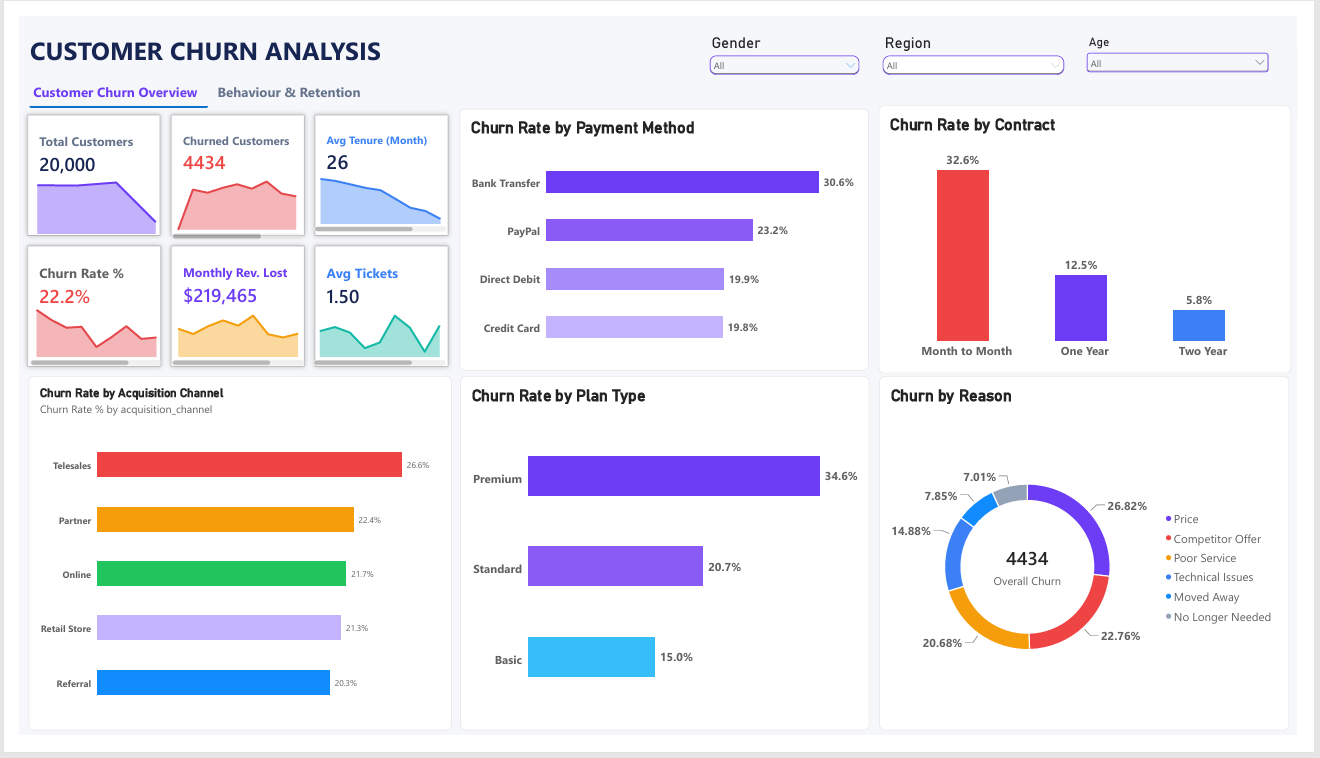

The dashboard page shown, as its layout file describes it:
{"tool":"powerbi","page":{"name":"Customer Churn  Overview","canvas":[1920,1080],"ordinal":0},"visuals":[{"type":"shape","box":[434.9,138.6,216.6,197.8],"z":0,"group":"g5"},{"type":"shape","box":[219.4,139,216.6,197.8],"z":0,"group":"g3"},{"type":"group","id":"g1","title":"Group 2","box":[434.9,335.7,217.6,197.2],"z":0},{"type":"shape","box":[434.9,335.7,216.6,197.8],"z":0,"group":"g1"},{"type":"shape","box":[2.9,336.2,216.6,197.8],"z":0,"group":"g2"},{"type":"shape","box":[219.4,336.2,216.6,197.8],"z":0,"group":"g4"},{"type":"slicer","title":"AGE","fields":{"Values":["churn_db churn_analysis.Age Band"]},"box":[1598.9,26.3,283.2,89.6],"z":1000},{"type":"cardVisual","fields":{"Data":["Avg(churn_db churn_analysis.tenure_months)"]},"box":[445.4,159.5,196.5,156],"z":1000,"group":"g5"},{"type":"cardVisual","fields":{"Data":["churn_db churn_analysis.Churned Customers"]},"box":[229.9,159.9,196.5,156],"z":1000,"group":"g3"},{"type":"cardVisual","fields":{"Data":["churn_db churn_analysis.Avg Tickets By Customers"]},"box":[445.4,356.6,196.5,156],"z":1000,"group":"g1"},{"type":"cardVisual","fields":{"Data":["churn_db churn_analysis.Churn Rate %"]},"box":[13.4,357.1,196.5,156],"z":1000,"group":"g2"},{"type":"cardVisual","fields":{"Data":["churn_db churn_analysis.Monthly Revenue Lost"]},"box":[229.9,357.1,196.5,156],"z":1000,"group":"g4"},{"type":"shape","box":[2.9,139,216.6,197.8],"z":2000},{"type":"cardVisual","fields":{"Data":["Count(churn_db churn_analysis.customer_id)"]},"box":[13.4,159.9,196.5,156],"z":3000},{"type":"group","id":"g2","title":"Group 2","box":[2.9,336.2,216.5,198.4],"z":4000},{"type":"clusteredColumnChart","title":"Churn Rate by Contract","fields":{"Category":["churn_db churn_analysis.contract_type"],"Y":["churn_db churn_analysis.Churn Rate %"]},"box":[1291.4,132.9,620.1,402.9],"z":5000},{"type":"clusteredBarChart","title":"Churn Rate by Payment Method","fields":{"Category":["churn_db churn_analysis.payment_method"],"Y":["churn_db churn_analysis.Churn Rate %"]},"box":[661.3,138.1,615.1,394.1],"z":6000},{"type":"group","id":"g3","title":"Group 2","box":[219.4,139,216.5,198.4],"z":7000},{"type":"group","id":"g4","title":"Group 2","box":[219.4,336.2,216.5,198.4],"z":8000},{"type":"slicer","fields":{"Values":["churn_db churn_analysis.region"]},"box":[1291.7,25,283.3,86.7],"z":9000},{"type":"group","id":"g5","title":"Group 2","box":[434.9,138.6,216.5,197.2],"z":10000},{"type":"slicer","title":"Gender","fields":{"Values":["churn_db churn_analysis.gender"]},"box":[1031.7,25,235,90],"z":11000},{"type":"textbox","box":[14.6,23.9,535.3,55.7],"z":12000},{"type":"clusteredBarChart","title":"Churn Rate by Acquisition Channel","fields":{"Category":["churn_db churn_analysis.acquisition_channel"],"Y":["churn_db churn_analysis.Churn Rate %"]},"box":[12.9,540,635.7,532.9],"z":13000},{"type":"clusteredBarChart","title":"Churn Rate by Plan Type","fields":{"Category":["churn_db churn_analysis.plan_type"],"Y":["churn_db churn_analysis.Churn Rate %"]},"box":[661.7,540,615,533.3],"z":14000},{"type":"donutChart","title":"Churn by Reason","fields":{"Category":["churn_db churn_analysis.churn_reason"],"Y":["churn_db churn_analysis.Churned Customers"]},"box":[1291.7,540,616.7,533.3],"z":15000},{"type":"pageNavigator","box":[14.3,87.1,547.1,50],"z":16000},{"type":"stackedAreaChart","fields":{"Category":["churn_db churn_analysis.start_date.Variation.Date Hierarchy.Year"],"Y":["CountNonNull(churn_db churn_analysis.customer_id)"]},"box":[0,214.3,230,127.1],"z":17000},{"type":"areaChart","fields":{"Category":["churn_db churn_analysis.CHURN MONTH.Variation.Date Hierarchy.Month"],"Y":["churn_db churn_analysis.Churned Customers"]},"box":[212.9,200,227.1,150],"z":18000},{"type":"stackedAreaChart","fields":{"Category":["churn_db churn_analysis.SIGNUP MONTH.Variation.Date Hierarchy.Month"],"Y":["Avg(churn_db churn_analysis.tenure_months)"]},"box":[427.1,211.4,230,127.1],"z":19000},{"type":"stackedAreaChart","fields":{"Category":["churn_db churn_analysis.SIGNUP MONTH.Variation.Date Hierarchy.Month"],"Y":["churn_db churn_analysis.Churn Rate %"]},"box":[0,412.9,230,127.1],"z":20000},{"type":"stackedAreaChart","fields":{"Category":["churn_db churn_analysis.CHURN MONTH.Variation.Date Hierarchy.Month"],"Y":["churn_db churn_analysis.Monthly Revenue Lost"]},"box":[212.9,412.9,230,127.1],"z":21000},{"type":"stackedAreaChart","fields":{"Category":["churn_db churn_analysis.SIGNUP MONTH.Variation.Date Hierarchy.Month"],"Y":["churn_db churn_analysis.Avg Tickets By Customers"]},"box":[425.7,377.1,230,162.9],"z":22000}]}

Visuals, with their boxes in screenshot pixels (x1, y1, x2, y2), scaled from the page's 1920x1080 canvas onto the 1320x758 screenshot:
shape: bbox=[299, 97, 448, 236]
shape: bbox=[151, 98, 300, 236]
"Group 2" group: bbox=[299, 236, 449, 374]
shape: bbox=[299, 236, 448, 374]
shape: bbox=[2, 236, 151, 375]
shape: bbox=[151, 236, 300, 375]
"AGE" slicer: bbox=[1099, 18, 1294, 81]
cardVisual - Avg(churn_db churn_analysis.tenure_months): bbox=[306, 112, 441, 221]
cardVisual - churn_db churn_analysis.Churned Customers: bbox=[158, 112, 293, 222]
cardVisual - churn_db churn_analysis.Avg Tickets By Customers: bbox=[306, 250, 441, 360]
cardVisual - churn_db churn_analysis.Churn Rate %: bbox=[9, 251, 144, 360]
cardVisual - churn_db churn_analysis.Monthly Revenue Lost: bbox=[158, 251, 293, 360]
shape: bbox=[2, 98, 151, 236]
cardVisual - Count(churn_db churn_analysis.customer_id): bbox=[9, 112, 144, 222]
"Group 2" group: bbox=[2, 236, 151, 375]
"Churn Rate by Contract" clusteredColumnChart: bbox=[888, 93, 1314, 376]
"Churn Rate by Payment Method" clusteredBarChart: bbox=[455, 97, 878, 374]
"Group 2" group: bbox=[151, 98, 300, 237]
"Group 2" group: bbox=[151, 236, 300, 375]
slicer - churn_db churn_analysis.region: bbox=[888, 18, 1083, 78]
"Group 2" group: bbox=[299, 97, 448, 236]
"Gender" slicer: bbox=[709, 18, 871, 81]
textbox: bbox=[10, 17, 378, 56]
"Churn Rate by Acquisition Channel" clusteredBarChart: bbox=[9, 379, 446, 753]
"Churn Rate by Plan Type" clusteredBarChart: bbox=[455, 379, 878, 753]
"Churn by Reason" donutChart: bbox=[888, 379, 1312, 753]
pageNavigator: bbox=[10, 61, 386, 96]
stackedAreaChart - churn_db churn_analysis.start_date.Variation.Date Hierarchy.Year x CountNonNull(churn_db churn_analysis.customer_id): bbox=[0, 150, 158, 240]
areaChart - churn_db churn_analysis.CHURN MONTH.Variation.Date Hierarchy.Month x churn_db churn_analysis.Churned Customers: bbox=[146, 140, 302, 246]
stackedAreaChart - churn_db churn_analysis.SIGNUP MONTH.Variation.Date Hierarchy.Month x Avg(churn_db churn_analysis.tenure_months): bbox=[294, 148, 452, 238]
stackedAreaChart - churn_db churn_analysis.SIGNUP MONTH.Variation.Date Hierarchy.Month x churn_db churn_analysis.Churn Rate %: bbox=[0, 290, 158, 379]
stackedAreaChart - churn_db churn_analysis.CHURN MONTH.Variation.Date Hierarchy.Month x churn_db churn_analysis.Monthly Revenue Lost: bbox=[146, 290, 304, 379]
stackedAreaChart - churn_db churn_analysis.SIGNUP MONTH.Variation.Date Hierarchy.Month x churn_db churn_analysis.Avg Tickets By Customers: bbox=[293, 265, 451, 379]
